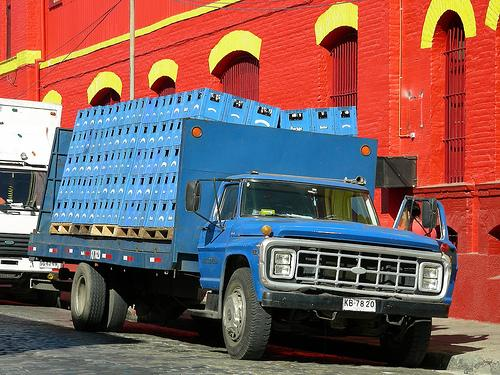truck: (27, 86, 459, 367)
